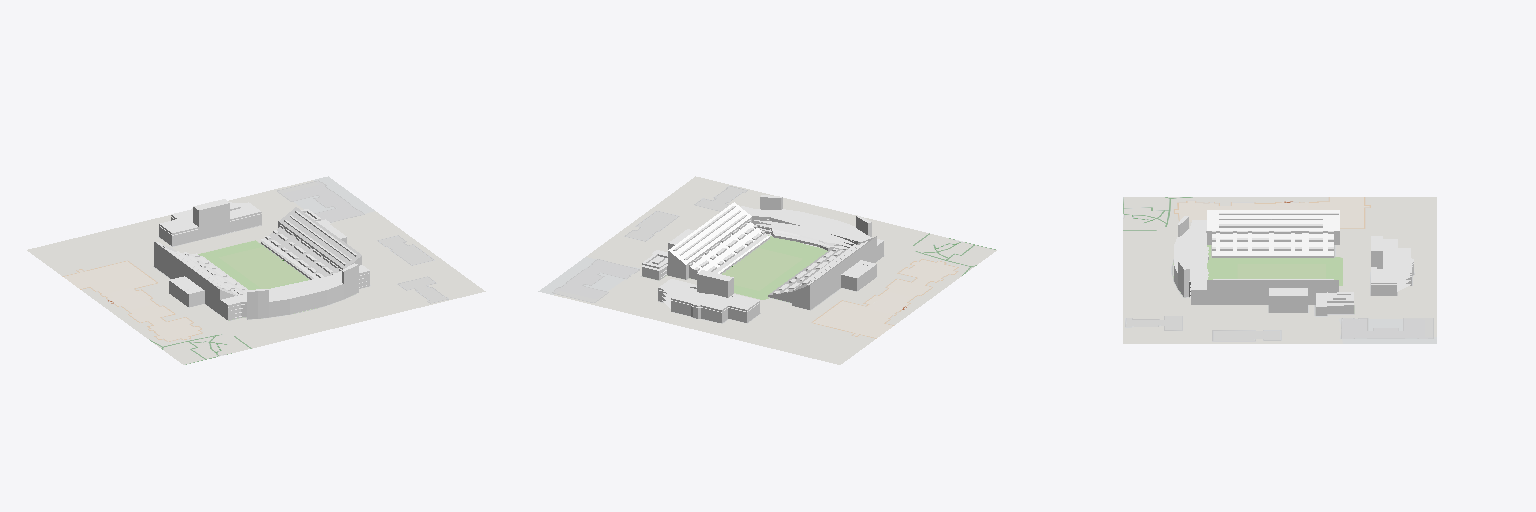
3 views of the same model, side by side, from view 1: azimuth 30°, elevation 25°; view 2: azimuth 150°, elevation 25°; view 3: azimuth 270°, elevation 25° (orthographic).
Visible parts, largest first — view 1: Mesh4 Model, Mesh1 Model, Mesh2 Model; view 2: Mesh4 Model, Mesh1 Model, Mesh2 Model; view 3: Mesh4 Model, Mesh1 Model, Mesh2 Model.
Part boxes in pixels (x1,y1,x2,y2): Mesh4 Model: (27,176,485,364); Mesh1 Model: (154,207,369,320); Mesh2 Model: (159,199,261,246); Mesh4 Model: (538,176,996,364); Mesh1 Model: (642,195,883,309); Mesh2 Model: (658,270,759,322); Mesh4 Model: (1123,197,1436,343); Mesh1 Model: (1174,210,1353,315); Mesh2 Model: (1371,236,1413,295).
Bounding box in the file's own units: 1168 × 109 × 1055.
Materials: 2 (1 with a texture image).